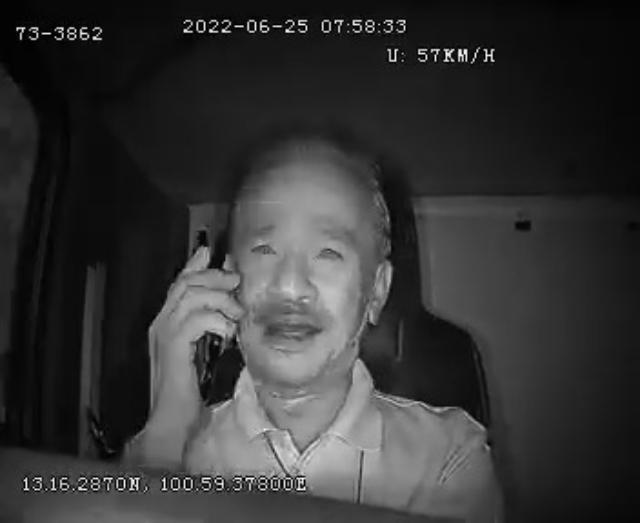PhoneUse: (182, 222, 225, 408)
SafeDriving: (306, 228, 352, 272), (243, 228, 285, 262)
